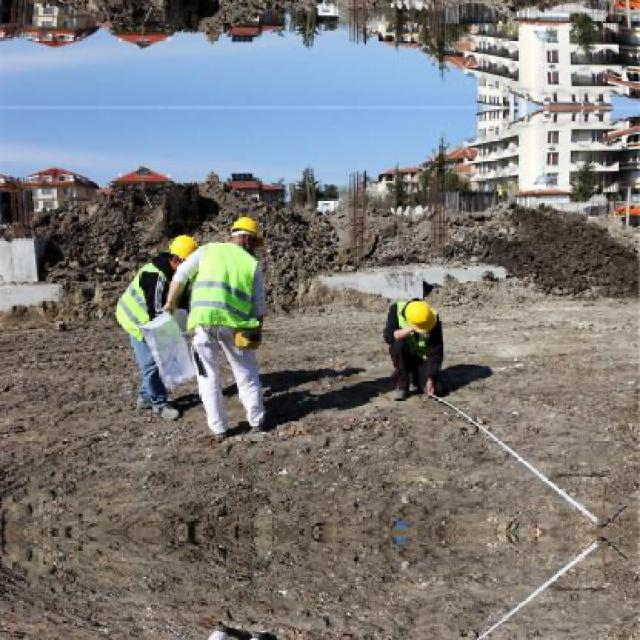helmet: (230, 212, 268, 246), (404, 300, 442, 331), (171, 232, 200, 268)
